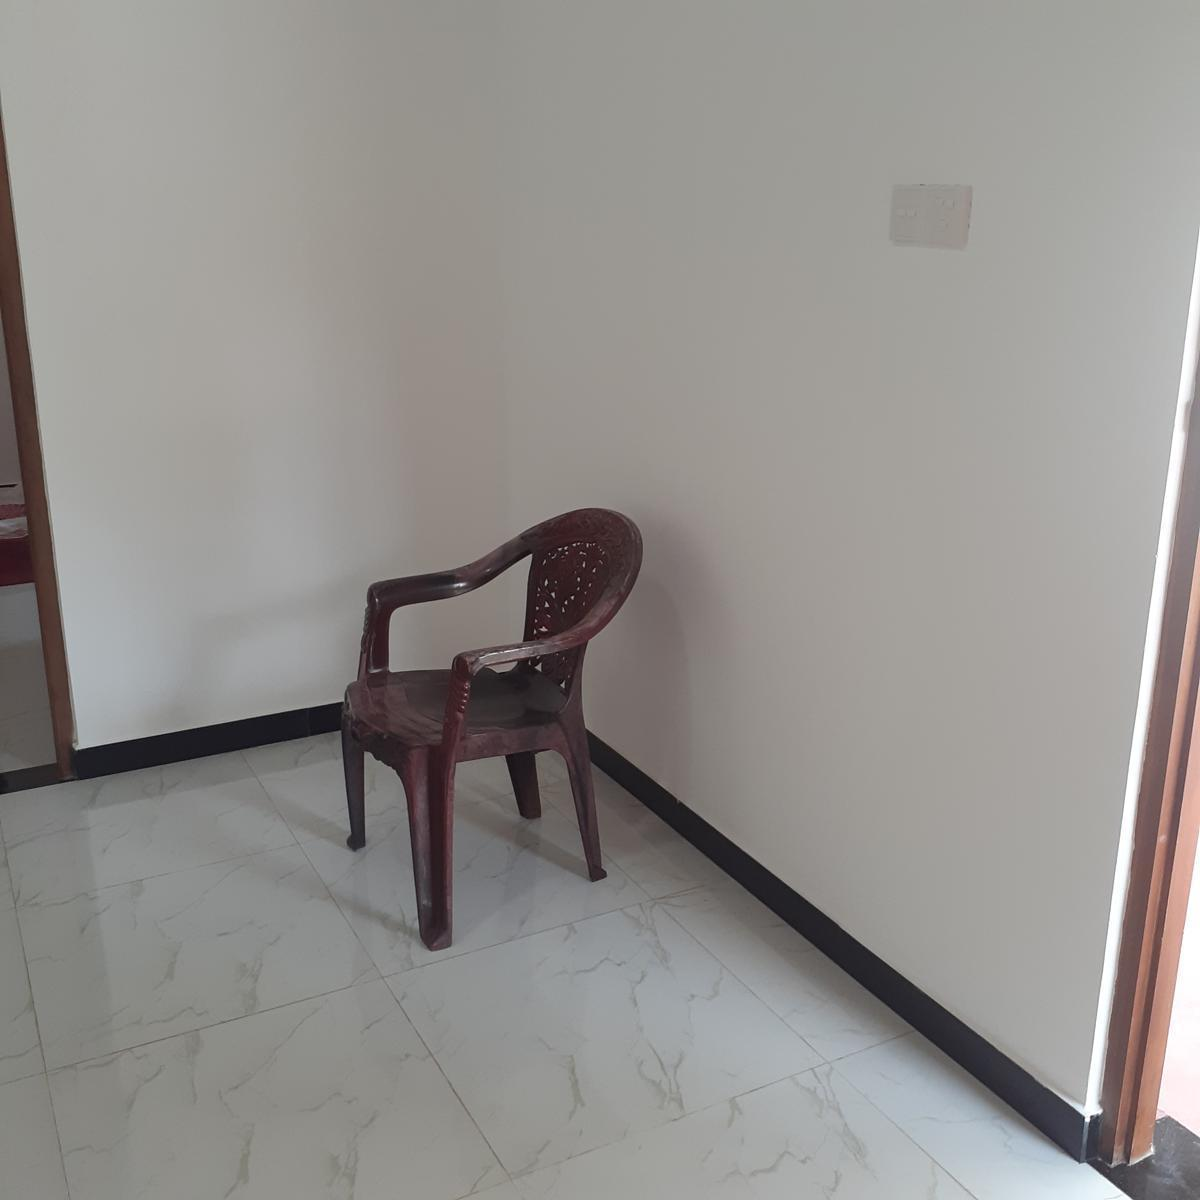Chair: (337, 504, 643, 950)
